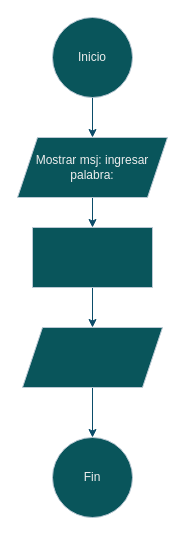
Some shapes in this 185 by 535 pixel diagram are drawn without their labels. The centre of each missing label's shape, as x and y in pixels:
"Definir variable cantifaf de letras y asignar contar letras" belongs at point (92, 257).
"Mostrar cantidad de letras" belongs at point (92, 357).
